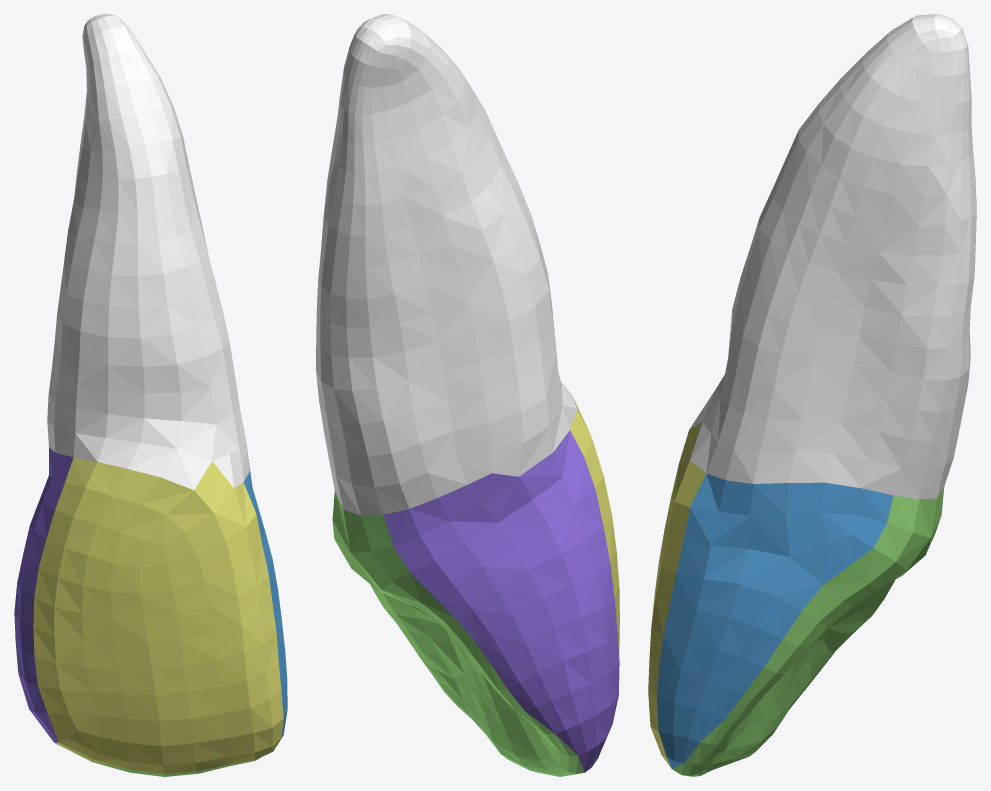
File: tooth_12_annotated.glb
3 views of the same model, side by side, from view 1: azimuth 30°, elevation 25°; view 2: azimuth 150°, elevation 25°; view 3: azimuth 270°, elevation 25° (orthographic). The views are drawn at different scales.
Parts seen in each view (by area): view 1: FDI_12; view 2: FDI_12; view 3: FDI_12.
Part boxes in pixels (left/top/right/bottom): FDI_12: left=14, top=14, right=287, bottom=776; FDI_12: left=316, top=14, right=619, bottom=776; FDI_12: left=648, top=14, right=976, bottom=776.
Bounding box in the file's own units: 0.00653 × 0.0194 × 0.00765.
